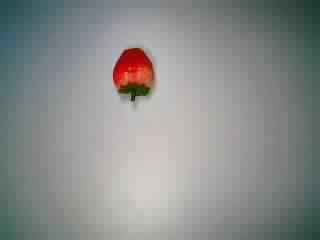strawberry: (104, 43, 157, 106)
